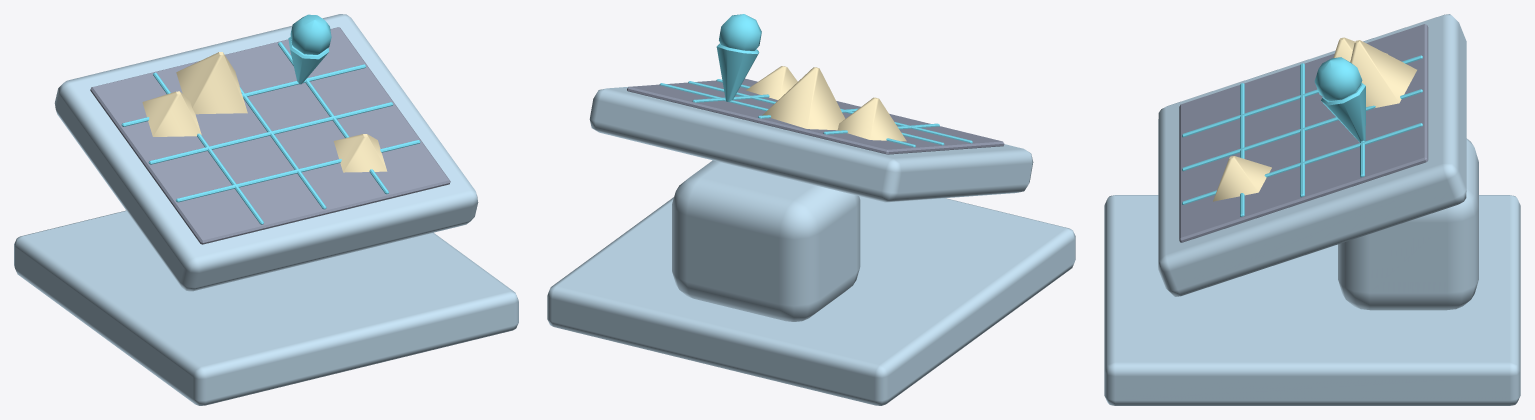
Rendered from R4X_Minimap.glb.
3 views of the same model, side by side, from view 1: azimuth 30°, elevation 25°; view 2: azimuth 150°, elevation 25°; view 3: azimuth 270°, elevation 25° (orthographic). The views are drawn at different scales.
Parts seen in each view (by area): view 1: R4X_Minimap_Body; view 2: R4X_Minimap_Body; view 3: R4X_Minimap_Body.
Boxes of the visible parts, x1,y1,x2,y2 form: R4X_Minimap_Body: [14, 14, 518, 405]; R4X_Minimap_Body: [547, 14, 1075, 405]; R4X_Minimap_Body: [1104, 14, 1520, 405].
Bounding box in the file's own units: 0.52 × 0.4037 × 0.52.
